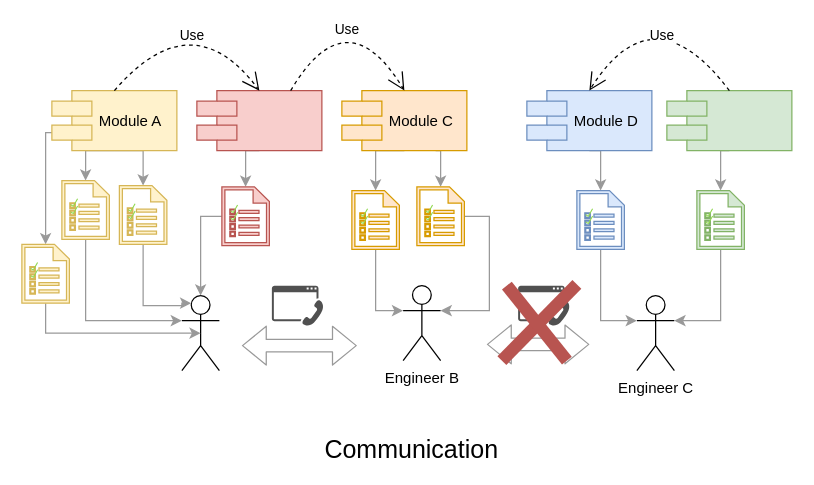
This 814x485 diagram has some shape labels left out. The centre of each missing label's shape, as x and y in pixels:
"Engineer A" goes at point (200, 332).
"Module B" goes at point (259, 120).
"Module E" goes at point (729, 120).
